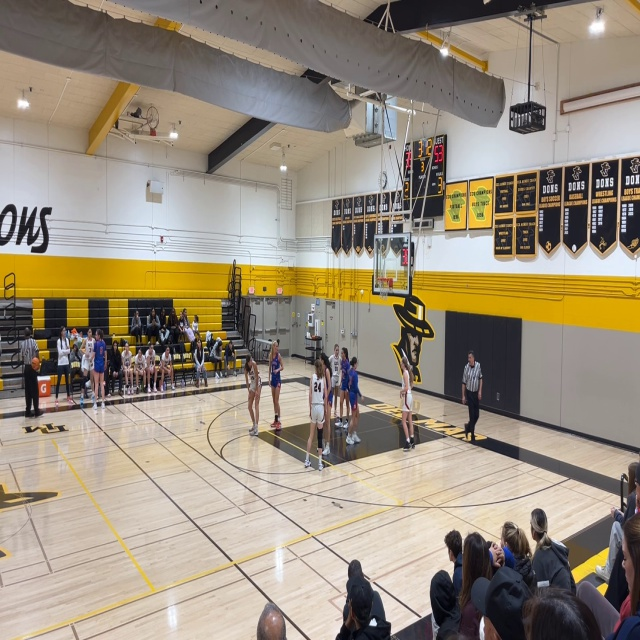Basketball: (31, 358, 40, 371)
